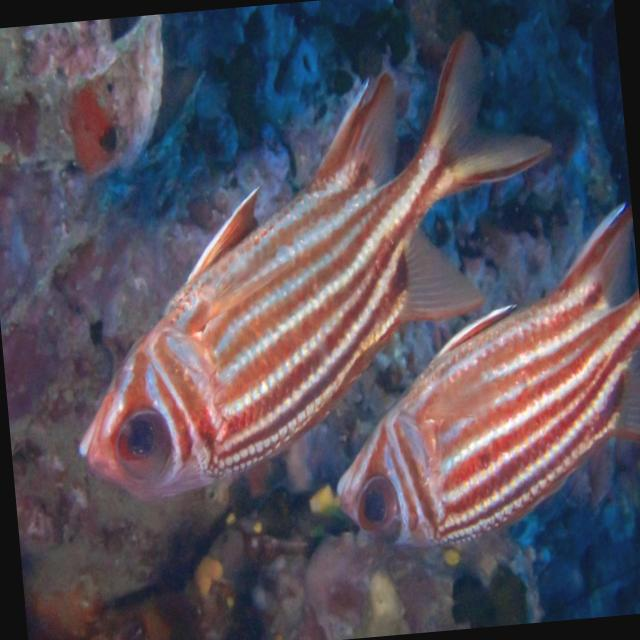Asker Baligi: (32, 32, 564, 513), (310, 197, 640, 559)
